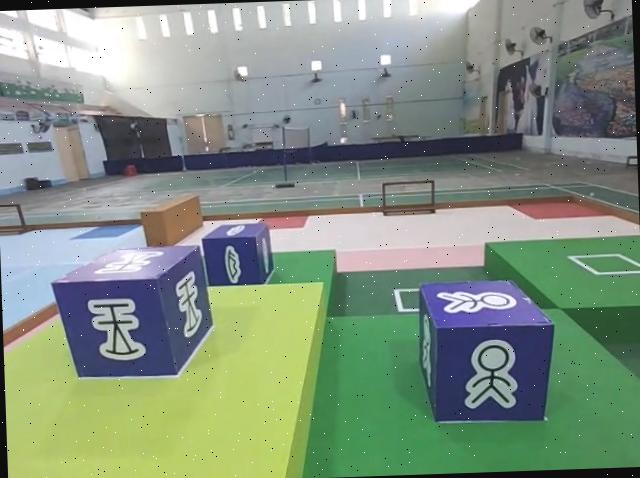R2 Real Blue: (52, 244, 215, 382), (414, 281, 557, 430), (198, 224, 272, 292)
